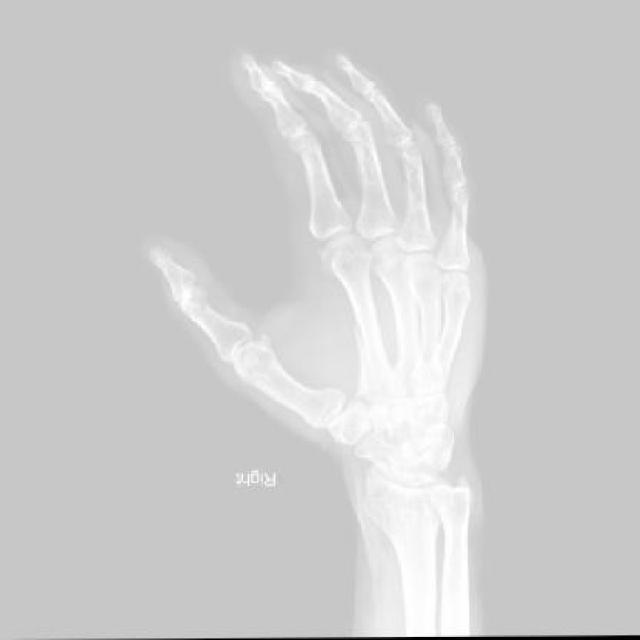Fracture: (349, 323, 391, 403)
